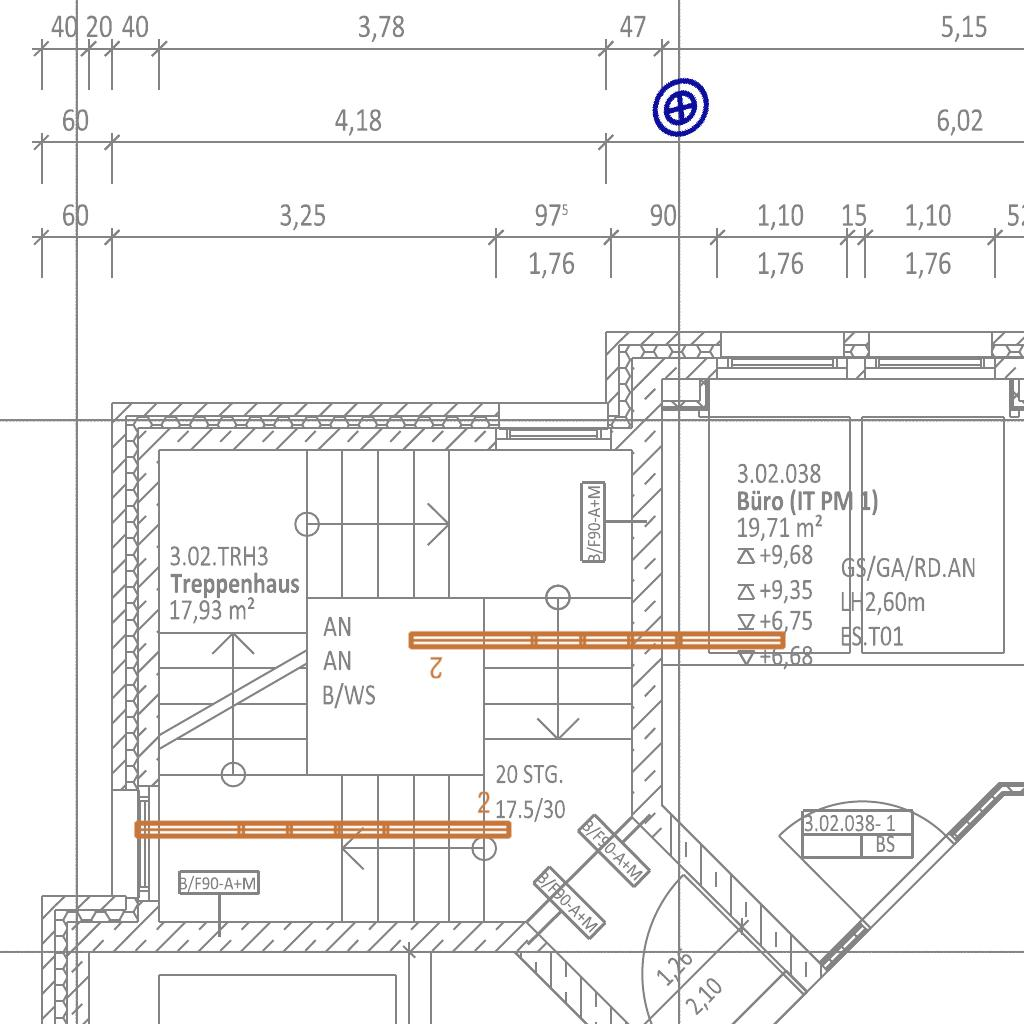Ambulanz_Pendelleuchte_LED: (404, 625, 791, 681), (129, 789, 516, 845)
Taster_beleuchtet: (635, 62, 727, 154)
